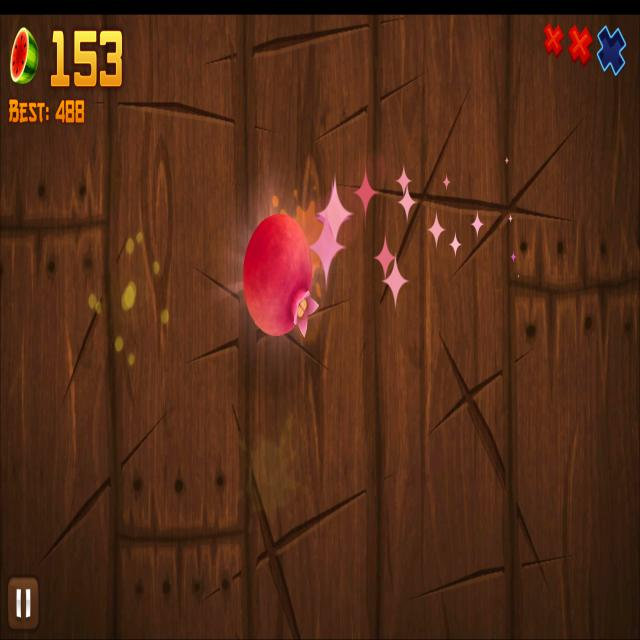fruit: (243, 215, 309, 338)
